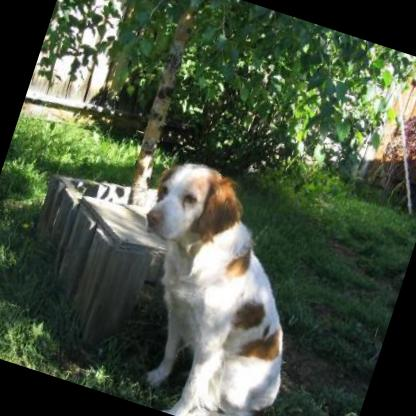Brittany_spaniel: (88, 148, 340, 416)
